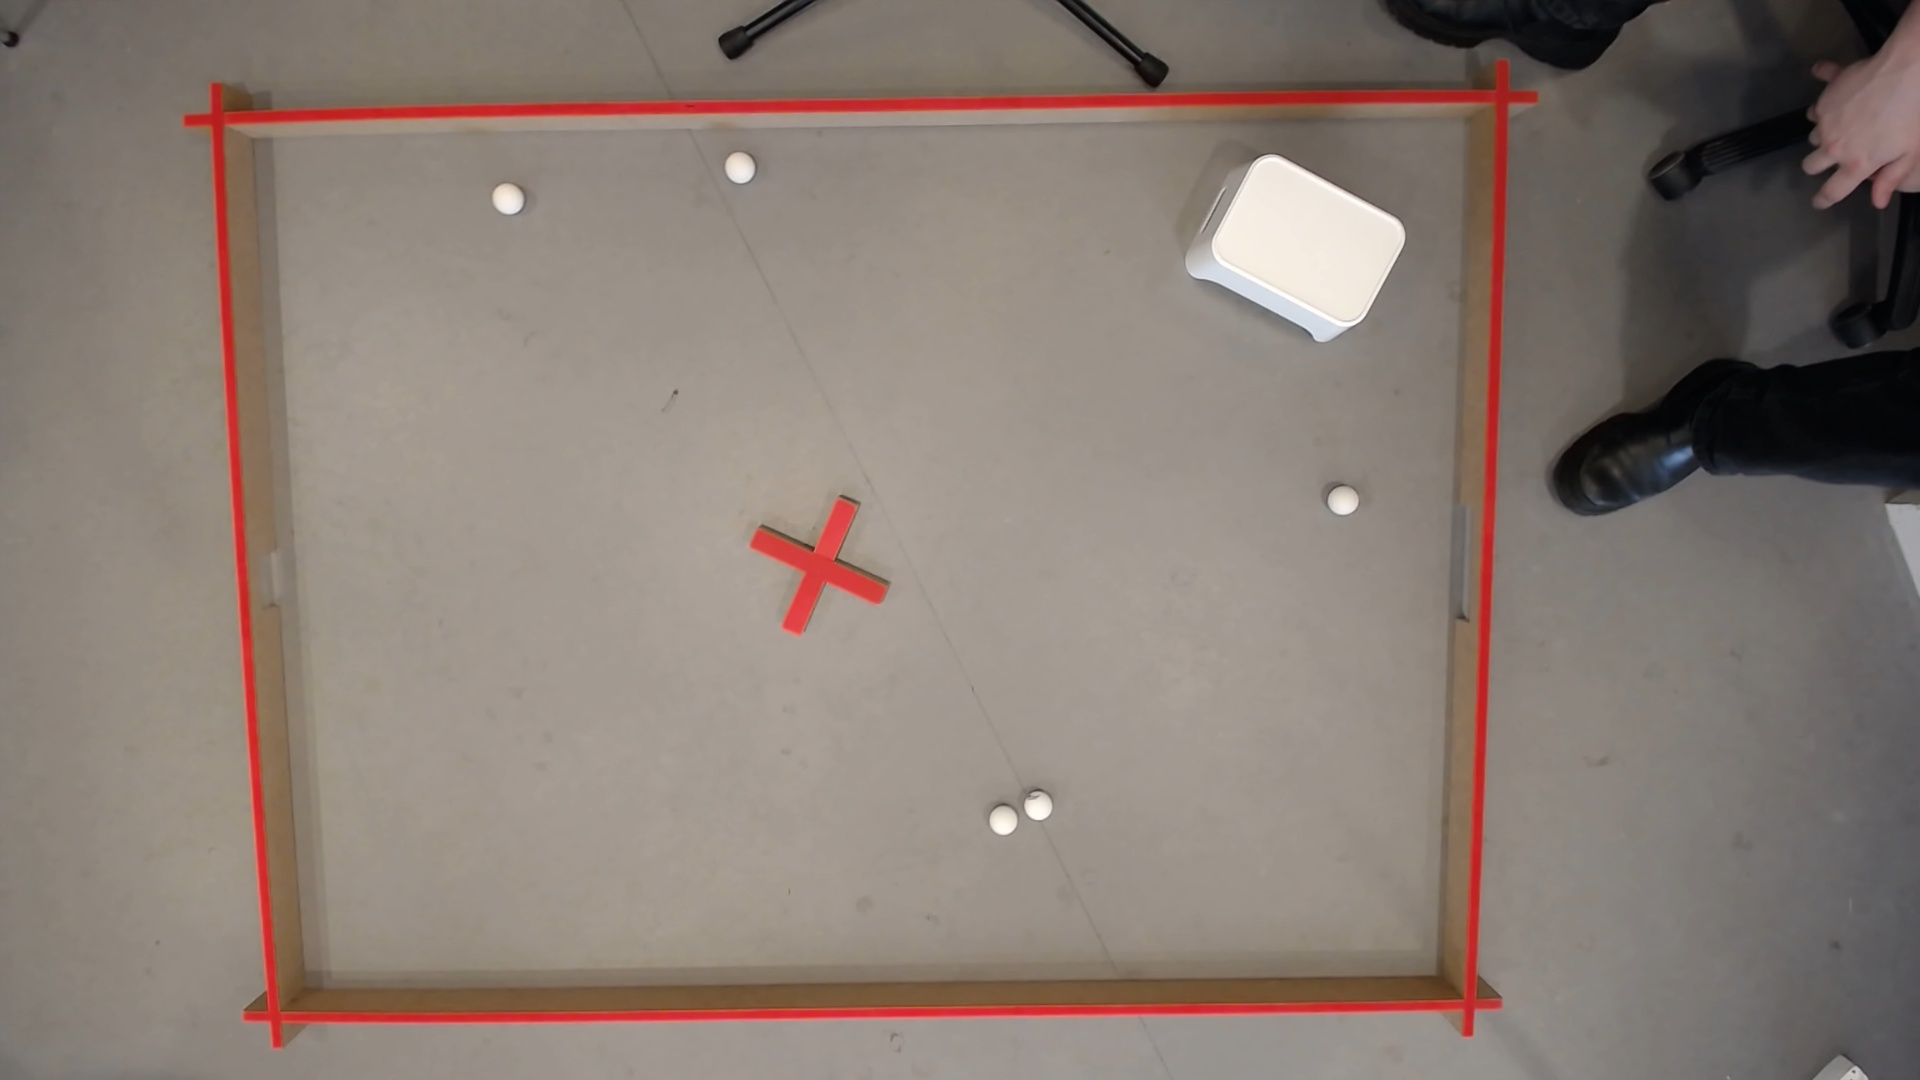balls: (1183, 141, 1412, 356), (485, 178, 527, 220), (720, 146, 758, 186), (1324, 483, 1361, 518), (989, 808, 1017, 835)
car: (1021, 791, 1055, 824)
